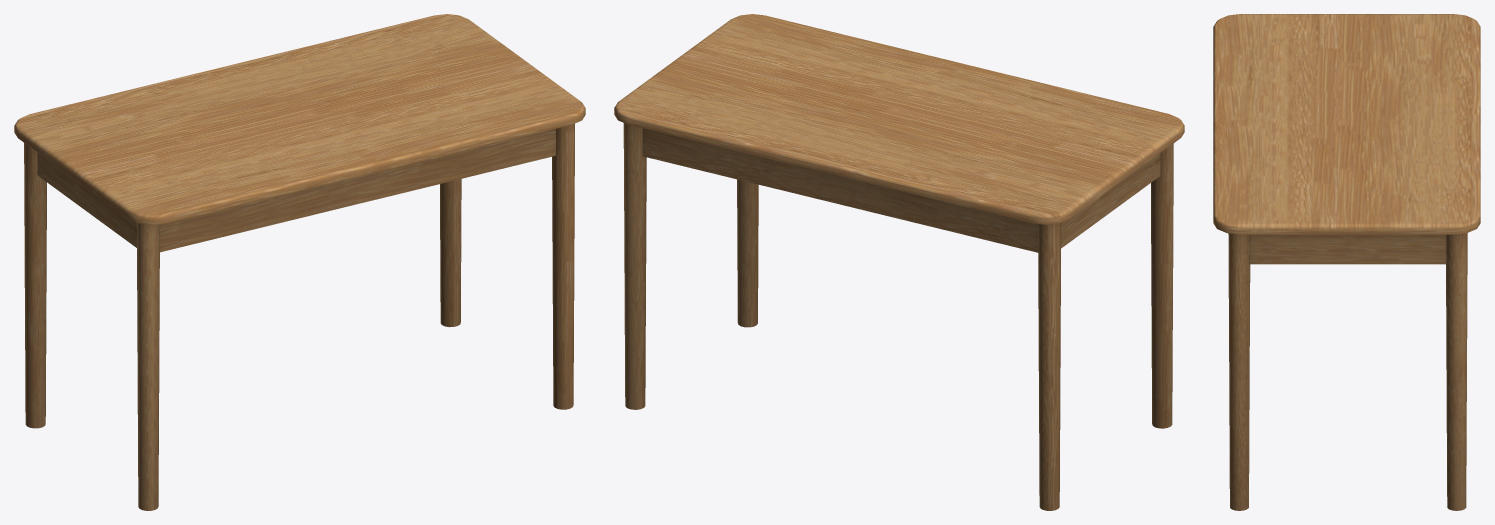
File: tableWoodSimpleRounded.fbx
3 views of the same model, side by side, from view 1: azimuth 30°, elevation 25°; view 2: azimuth 150°, elevation 25°; view 3: azimuth 270°, elevation 25° (orthographic). The views are drawn at different scales.
Parts seen in each view (by area): view 1: tableWoodSimpleRounded; view 2: tableWoodSimpleRounded; view 3: tableWoodSimpleRounded.
Part boxes in pixels (x1,y1,x2,y2): tableWoodSimpleRounded: (14, 14, 585, 510); tableWoodSimpleRounded: (614, 14, 1184, 510); tableWoodSimpleRounded: (1213, 14, 1480, 510).
Bounding box in the file's own units: 2.61 × 1.66 × 1.38.
1 material, 1 textured.
